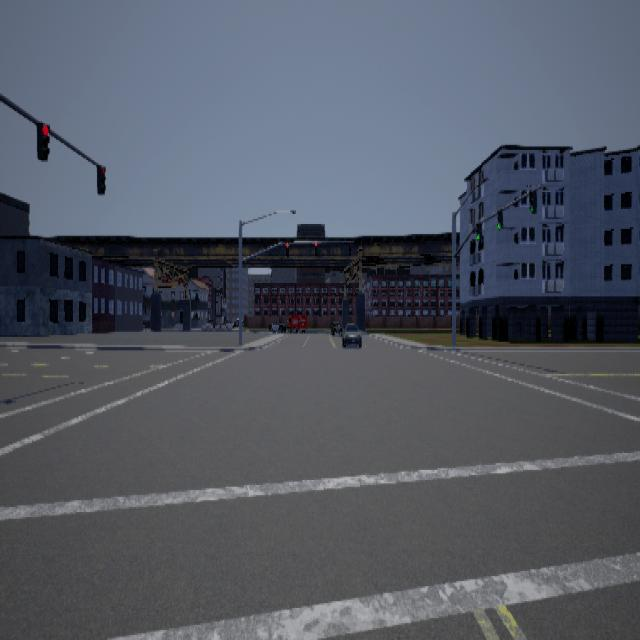green_light: (530, 189, 538, 212), (498, 207, 504, 229), (477, 221, 483, 239)
red_light: (38, 120, 51, 160), (98, 163, 107, 194), (286, 241, 290, 256), (316, 241, 318, 255), (350, 241, 352, 254)
vehicle: (332, 320, 363, 347), (270, 313, 308, 332)
